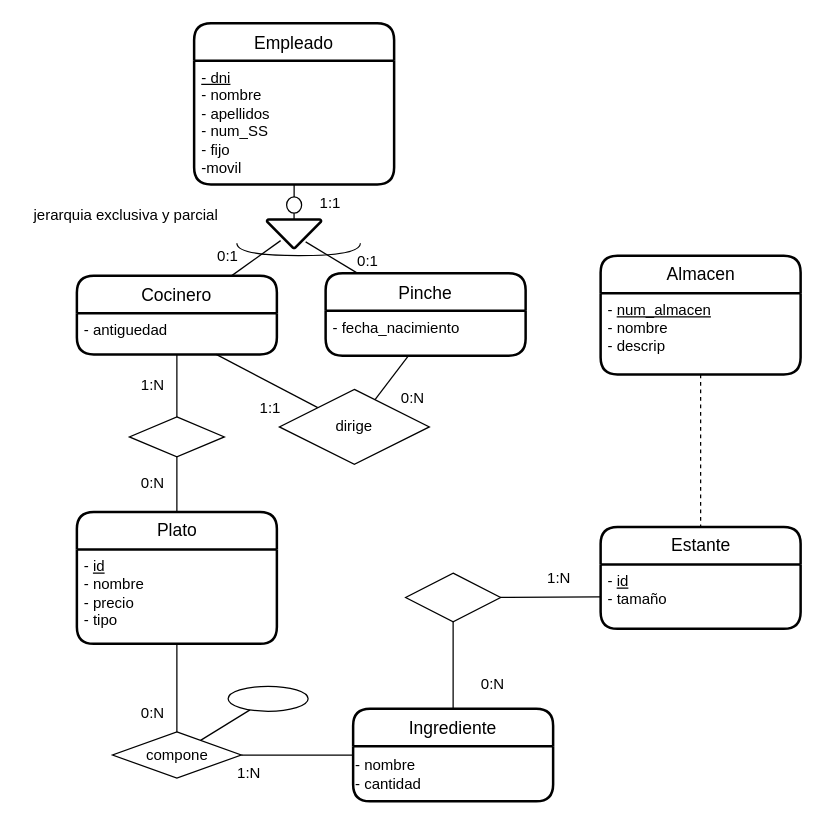
This 823x824 diagram has some shape labels left out. The shapes that lost their labels are listed below. From the top down, each one's centre as x and y in pixels, then its label:
At pixel 176 436: "prepara".
At pixel 452 597: "Almacena".
At pixel 267 698: "cantidad".
